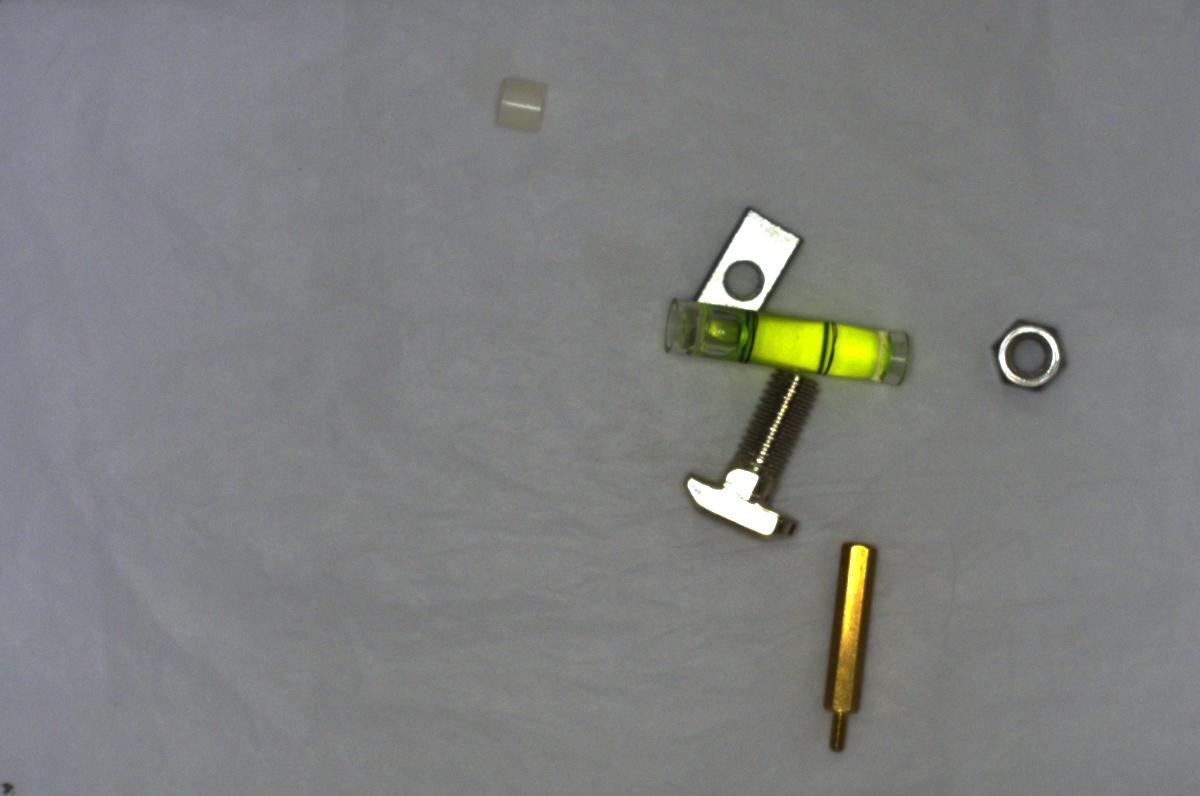Hexagon nut: (980, 306, 1080, 401)
Hexagon pillar: (807, 528, 887, 763)
Horizontal bubble: (653, 295, 915, 394)
Plastic cushion pillar: (487, 72, 555, 137)
Rectangular nut: (691, 201, 807, 315)
T-shaped screw: (661, 359, 815, 545)
